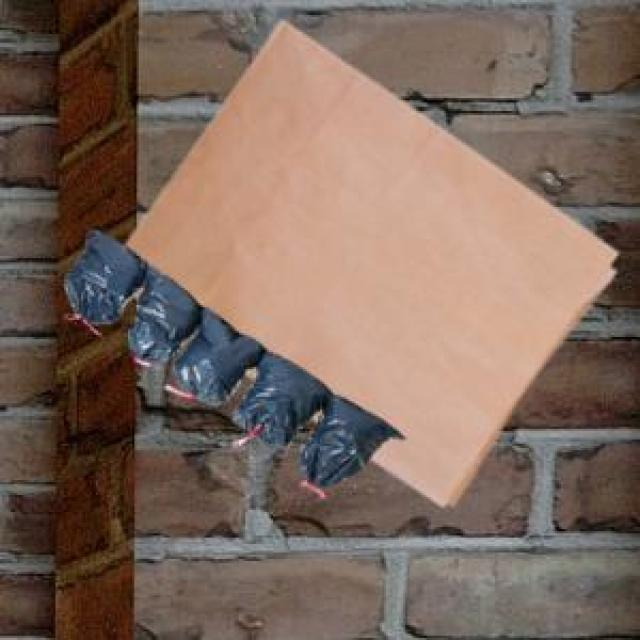miscellaneous trash: (60, 226, 401, 484)
paper: (122, 17, 612, 501)
